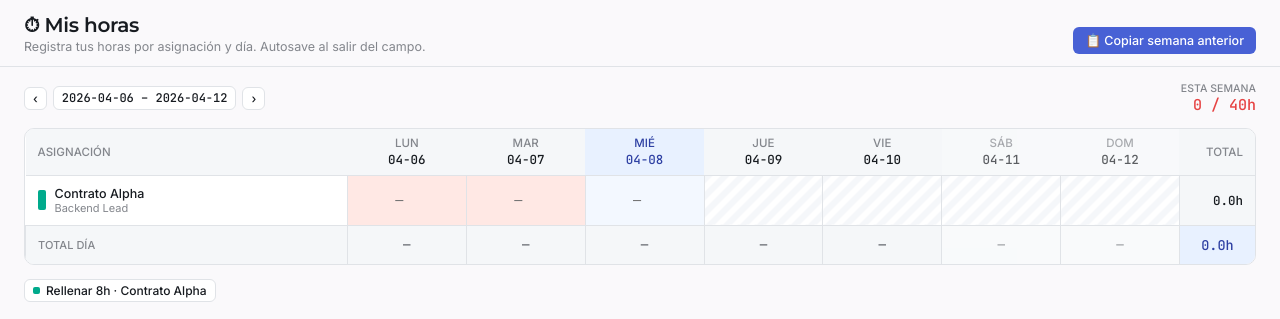
TimeMe › SPEC-011: edición de semana por texto › clicking the range opens a text input with current Monday
Expected: the text "Contrato Alpha" is shown, [54,186,144,201]
What coordinates should you click on to do the following:
click the text named "Semana actual"
I would click on:
 (145, 98)
Its box is [53,86,236,110].
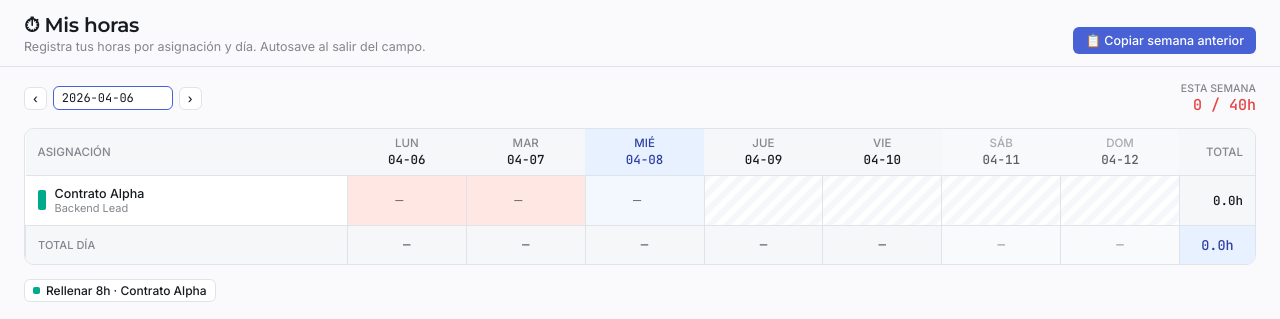
Expected: the field named "Seleccionar semana" holds "2026-04-06", [53,86,173,110]
